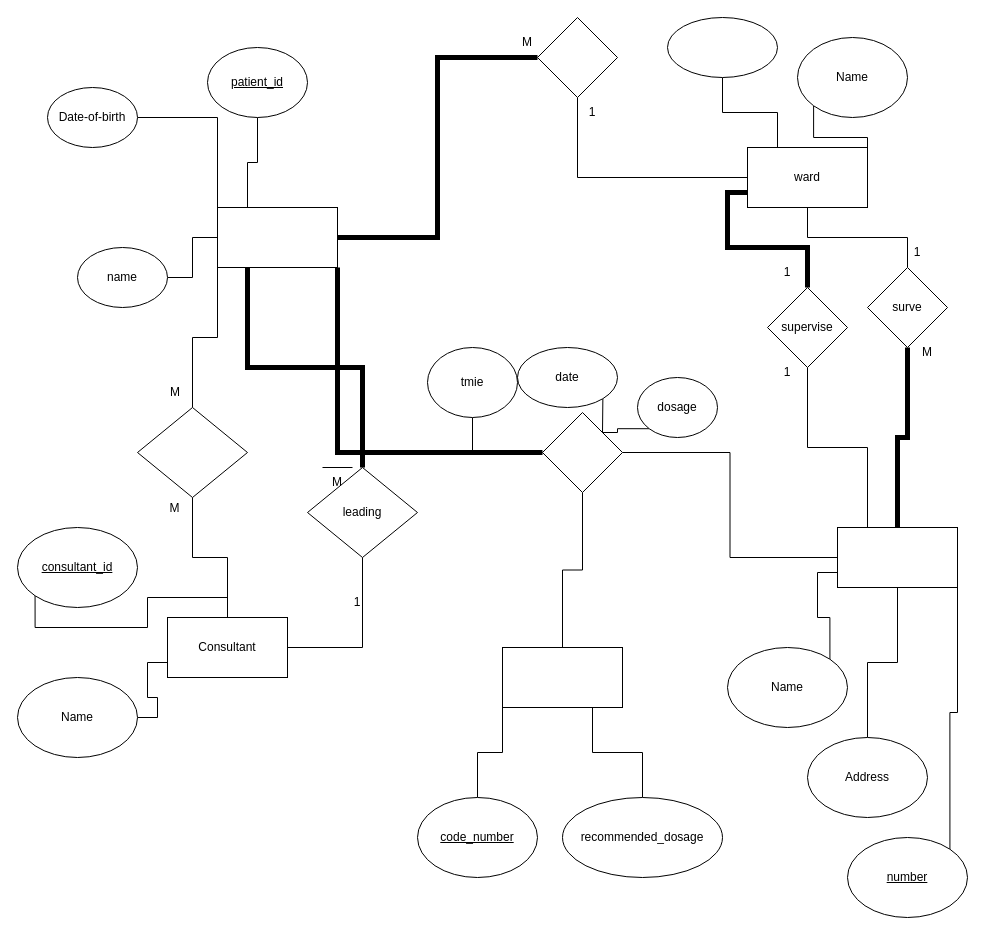
The diagram is 985 pixels wide and 935 high, and some of its shapes have lost their labels. Here are the shapes that lost their labels. From the top down, the centre of each, then its label:
At (x=577, y=57): "host".
At (x=722, y=47): "ward_id".
At (x=277, y=237): "patient".
At (x=192, y=452): "examine".
At (x=582, y=452): "gives".
At (x=897, y=557): "Nurse".
At (x=562, y=677): "Drug".
